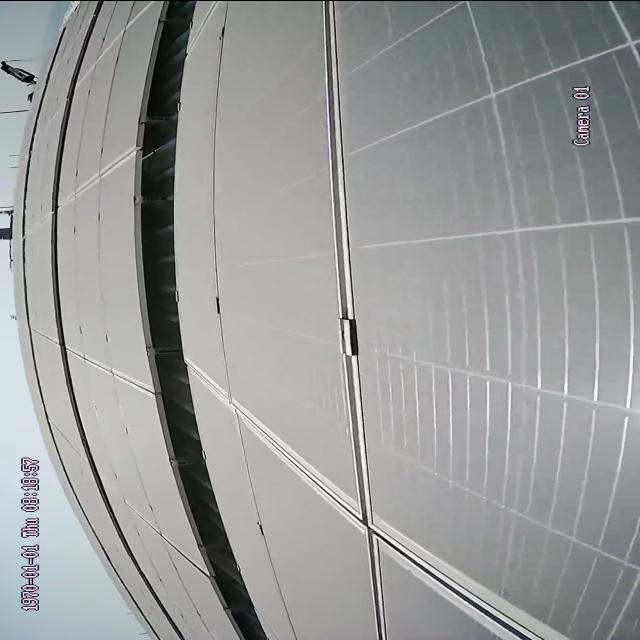interior panel: (191, 5, 568, 638), (133, 510, 200, 571), (63, 145, 127, 203), (77, 343, 144, 398)
outher panel: (134, 0, 269, 640)
